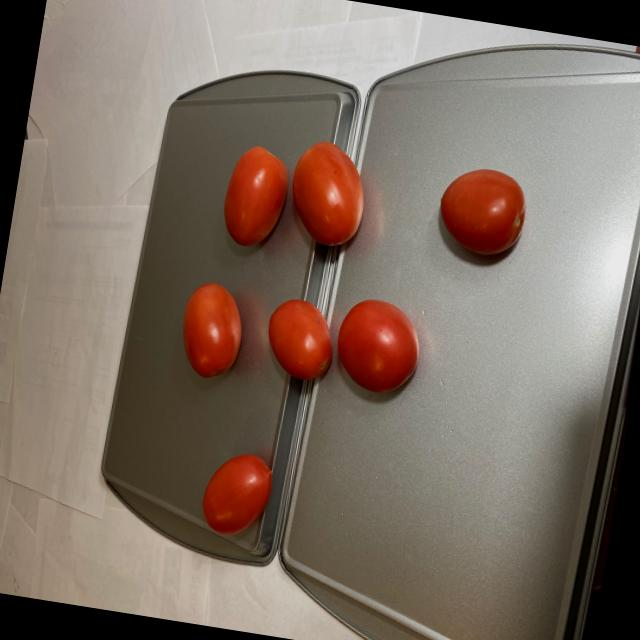tomato: (150, 124, 536, 578)
